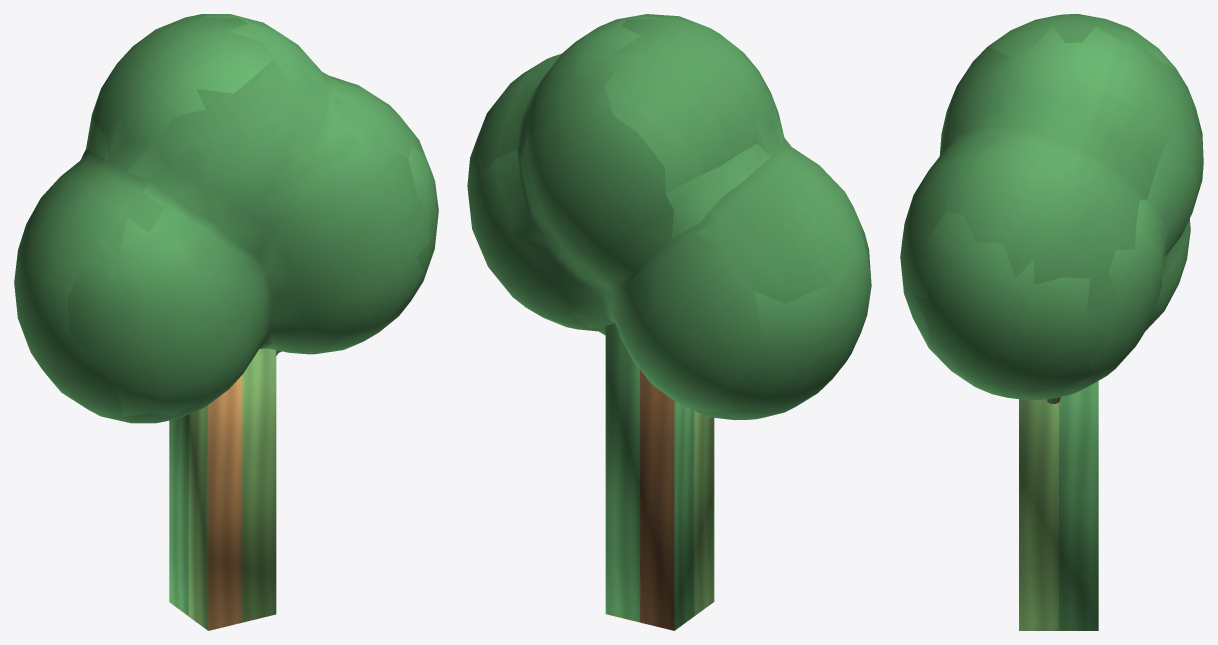
The model's file is tree_round_a.glb.
3 renders of one model, left to right at view 1: azimuth 30°, elevation 25°; view 2: azimuth 150°, elevation 25°; view 3: azimuth 270°, elevation 25°, orthographic.
Parts seen in each view (by area): view 1: lod0, col; view 2: lod0, col; view 3: lod0, col.
Part boxes in pixels (x1=…): lod0: x1=14, y1=14, x2=438, y2=423; col: x1=169, y1=348, x2=276, y2=630; lod0: x1=467, y1=14, x2=871, y2=420; col: x1=605, y1=323, x2=714, y2=630; lod0: x1=900, y1=14, x2=1203, y2=404; col: x1=1019, y1=381, x2=1098, y2=630.
Size of what is drawn, in the model's own units: 3.32 by 4.88 by 2.28.
2 materials, 2 textured.
